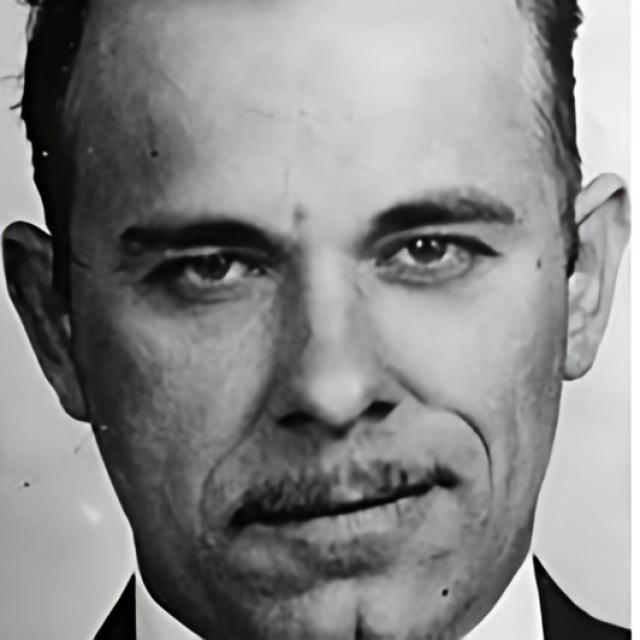content: (62, 0, 568, 640)
